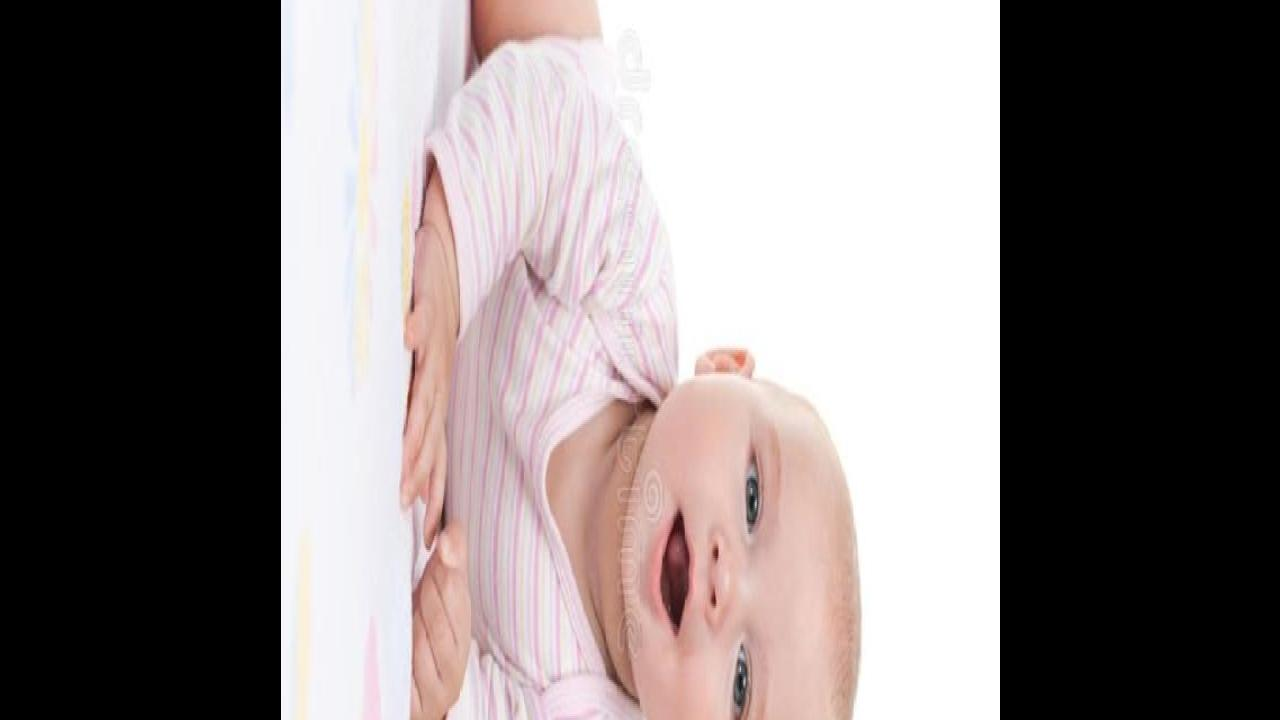hand: (398, 242, 458, 548), (408, 526, 470, 720)
